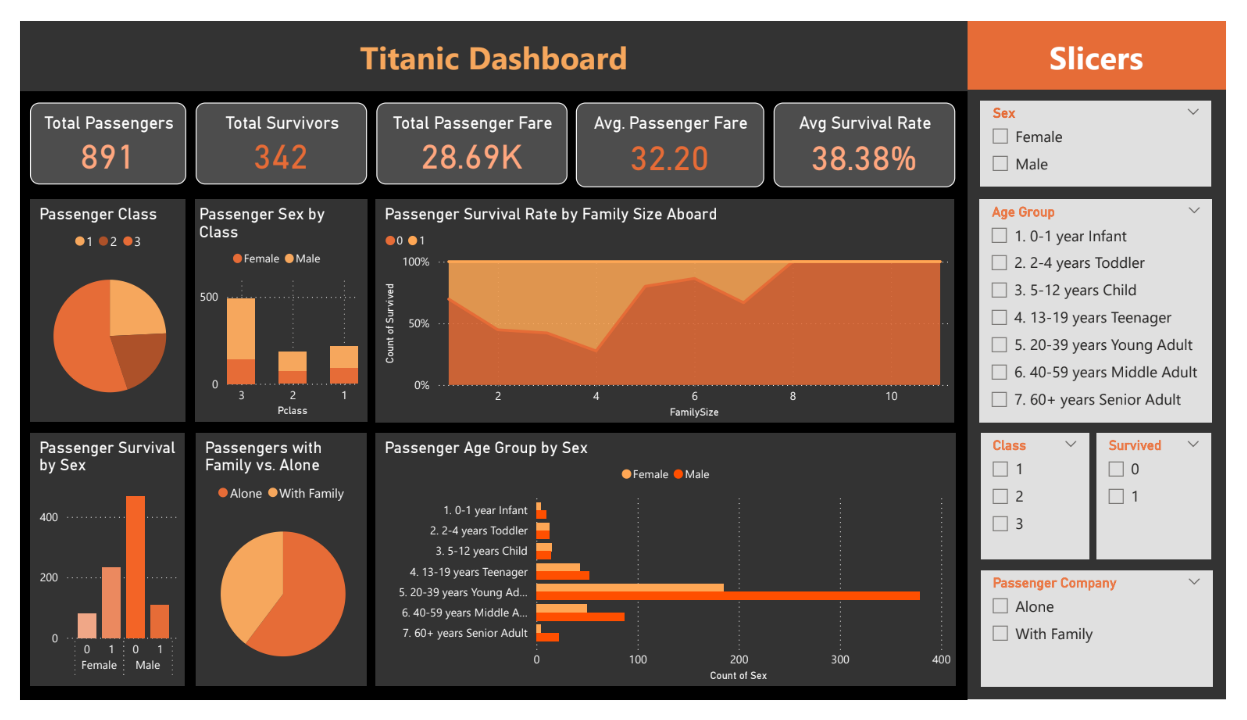

The dashboard page shown, as its layout file describes it:
{"tool":"powerbi","page":{"name":"Page 1","canvas":[1280,720],"ordinal":0},"visuals":[{"type":"shape","box":[0,73.8,1006.2,646.2],"z":0},{"type":"shape","box":[0,0,1005.7,74.3],"z":1000},{"type":"card","title":"Total Passengers","fields":{"Values":["CountNonNull(Sheet1.PassengerId)"]},"box":[10,85.6,165.6,87.8],"z":2000},{"type":"shape","box":[1006.2,0,273.8,73.8],"z":3000},{"type":"pieChart","title":"Passenger Class","fields":{"Category":["Sheet1.Pclass"],"Y":["CountNonNull(Sheet1.Pclass)"]},"box":[10,188.8,165,236.2],"z":4000},{"type":"card","title":"Total Survivors","fields":{"Values":["Sum(Sheet1.Survived)"]},"box":[185.6,85.6,182.2,87.8],"z":5000},{"type":"hundredPercentStackedAreaChart","title":"Passenger Survival Rate by Family Size Aboard","fields":{"Y":["CountNonNull(Sheet1.Survived)"],"Category":["Sheet1.FamilySize"],"Series":["Sheet1.Survived"]},"box":[376.7,188.9,615.6,236.7],"z":6000},{"type":"card","title":"Total Passenger Fare","fields":{"Values":["Sum(Sheet1.Fare)"]},"box":[377.8,85.6,203.3,87.8],"z":7000},{"type":"card","title":"Avg. Passenger Fare ","fields":{"Values":["Avg(Sheet1.Fare)"]},"box":[590,85.6,200,90],"z":8000},{"type":"columnChart","title":"Passenger Sex by Class","fields":{"Category":["Sheet1.Pclass"],"Y":["CountNonNull(Sheet1.Sex)"],"Series":["Sheet1.Sex"]},"box":[185,188.8,182.5,236.2],"z":9000},{"type":"pieChart","title":"Passengers with Family vs. Alone","fields":{"Category":["Sheet1.IsAlone"],"Y":["CountNonNull(Sheet1.IsAlone)"]},"box":[185.7,437.1,181.4,268.6],"z":10000},{"type":"clusteredBarChart","title":"Passenger Age Group by Sex","fields":{"Y":["CountNonNull(Sheet1.Sex)"],"Category":["Sheet1.Age Group"],"Series":["Sheet1.Sex"]},"box":[377,437,616,269],"z":11000},{"type":"card","title":"Avg Survival Rate","fields":{"Values":["Avg(Sheet1.Survived)"]},"box":[800,85.6,193.3,90],"z":12000},{"type":"clusteredColumnChart","title":"Passenger Survival by Sex","fields":{"Category":["Sheet1.Sex","Sheet1.Survived"],"Y":["CountNonNull(Sheet1.Sex)"]},"box":[10,437.1,164.3,268.6],"z":13000},{"type":"shape","box":[1006.2,72.5,273.8,647.5],"z":14000},{"type":"slicer","fields":{"Values":["Sheet1.Sex"]},"box":[1020,84,245,91],"z":15000},{"type":"slicer","fields":{"Values":["Sheet1.Age Group"]},"box":[1019.4,188.8,246.2,236.9],"z":16000},{"type":"slicer","fields":{"Values":["Sheet1.Pclass"]},"box":[1020,437,115,134],"z":17000},{"type":"slicer","fields":{"Values":["Sheet1.Survived"]},"box":[1143,437,122,134],"z":18000},{"type":"slicer","fields":{"Values":["Sheet1.IsAlone"]},"box":[1020,582.9,245.7,122.9],"z":19000}]}

Visuals, with their boxes in screenshot pixels (x1, y1, x2, y2), scaled from the page's 1280x720 canvas onto the 1247x720 screenshot:
shape: box(0, 74, 980, 719)
shape: box(0, 0, 980, 74)
"Total Passengers" card: box(10, 86, 171, 173)
shape: box(980, 0, 1246, 74)
"Passenger Class" pieChart: box(10, 189, 170, 425)
"Total Survivors" card: box(181, 86, 358, 173)
"Passenger Survival Rate by Family Size Aboard" hundredPercentStackedAreaChart: box(367, 189, 967, 426)
"Total Passenger Fare" card: box(368, 86, 566, 173)
"Avg. Passenger Fare " card: box(575, 86, 770, 176)
"Passenger Sex by Class" columnChart: box(180, 189, 358, 425)
"Passengers with Family vs. Alone" pieChart: box(181, 437, 358, 706)
"Passenger Age Group by Sex" clusteredBarChart: box(367, 437, 967, 706)
"Avg Survival Rate" card: box(779, 86, 968, 176)
"Passenger Survival by Sex" clusteredColumnChart: box(10, 437, 170, 706)
shape: box(980, 72, 1246, 719)
slicer - Sheet1.Sex: box(994, 84, 1232, 175)
slicer - Sheet1.Age Group: box(993, 189, 1233, 426)
slicer - Sheet1.Pclass: box(994, 437, 1106, 571)
slicer - Sheet1.Survived: box(1114, 437, 1232, 571)
slicer - Sheet1.IsAlone: box(994, 583, 1233, 706)
